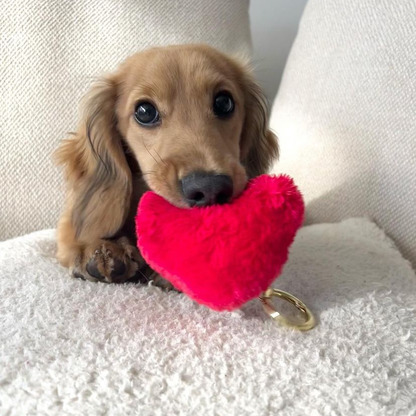dachshund: (53, 40, 313, 308)
